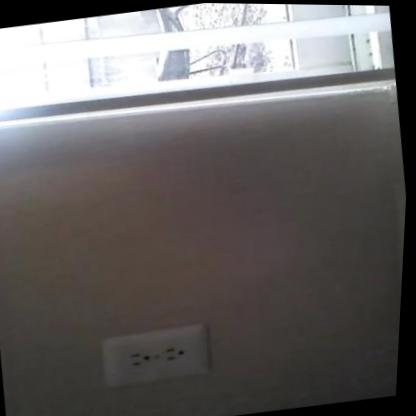OUTLET: (98, 320, 213, 387)
